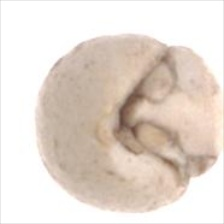L3: (112, 56, 188, 177)
L4: (34, 34, 219, 212)
